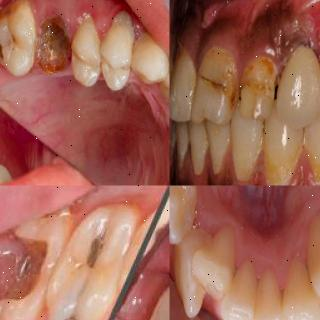Gum Swelling: (189, 147, 271, 186), (197, 32, 263, 78), (36, 0, 124, 33)
calculus: (109, 4, 141, 41), (188, 221, 218, 247), (2, 0, 42, 19), (273, 276, 289, 312), (300, 254, 318, 283), (252, 272, 264, 294), (233, 261, 245, 281)
cavities: (0, 18, 32, 72)
maligned: (197, 225, 239, 291)
plaque: (224, 126, 260, 176), (294, 122, 314, 164), (254, 124, 272, 167), (196, 122, 214, 162)
